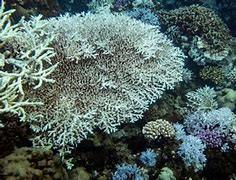bleached_corals: (0, 1, 59, 122), (163, 117, 216, 176), (185, 109, 236, 152), (185, 82, 222, 118), (143, 121, 175, 140), (88, 0, 112, 13)
